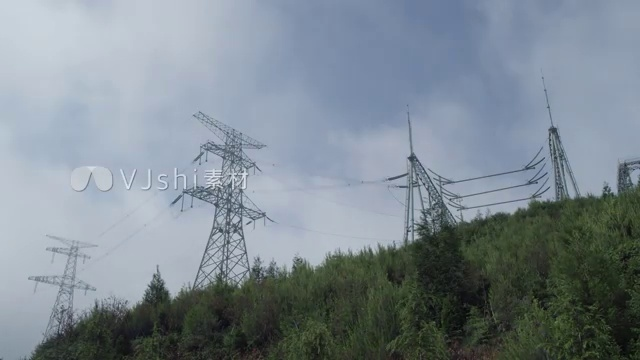tower_body: (189, 106, 276, 285), (32, 225, 105, 344)
tower_foot: (197, 244, 252, 286), (42, 312, 71, 343)
tower_head: (198, 110, 267, 170), (42, 230, 101, 264)
